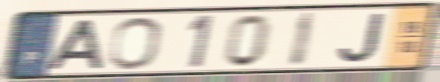0: (222, 12, 273, 69)
1: (185, 13, 216, 70)
A: (43, 18, 107, 73)
I: (287, 10, 318, 69)
J: (336, 12, 387, 65)
O: (106, 15, 163, 71)
